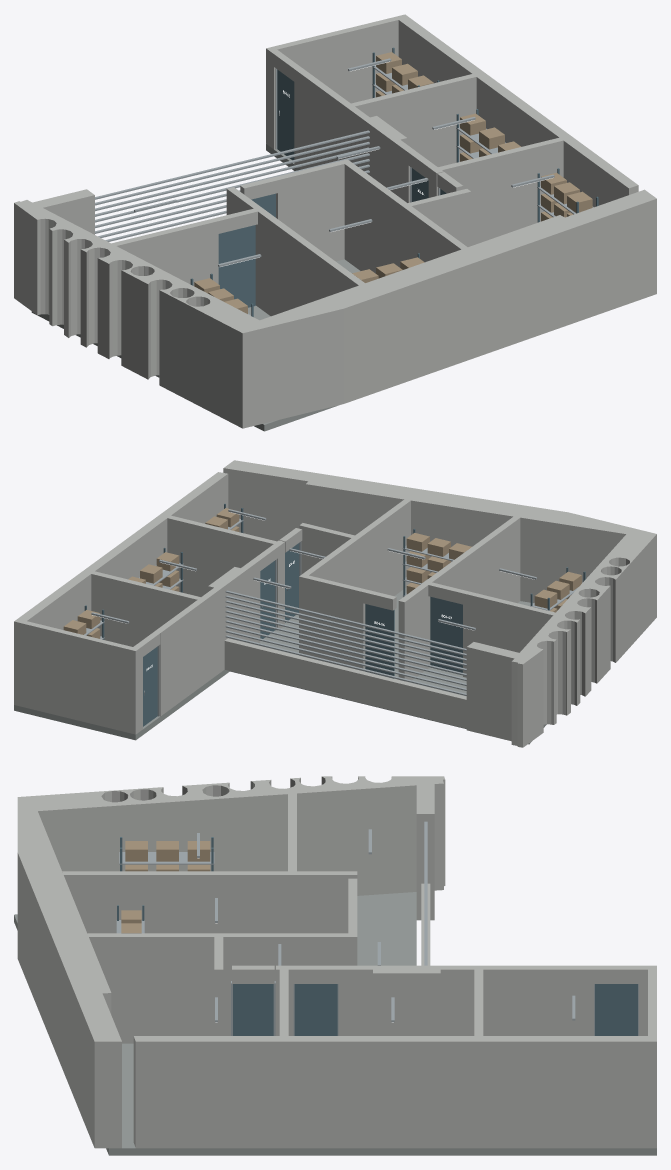
File: B04-storage.glb
3 views of the same model, one above another, from view 1: azimuth 30°, elevation 25°; view 2: azimuth 150°, elevation 25°; view 3: azimuth 270°, elevation 25° (orthographic). The views are drawn at different scales.
Visible parts, largest first — view 1: SOURCE WALL 54, SOURCE WALL 32, SOURCE WALL 31, SOURCE WALL 44, SOURCE WALL 49, SOURCE WALL 39, SOURCE WALL 47, SOURCE WALL 37, SOURCE WALL 40, SOURCE WALL 45, SOURCE WALL 35.002, PROPOSED | door leaf B04-07 (+15 smaller); view 2: SOURCE WALL 32, SOURCE WALL 55, SOURCE WALL 37, SOURCE WALL 54, SOURCE GRILLE LINE | assumed sill, SOURCE WALL 31, SOURCE WALL 39, SOURCE WALL 44, SOURCE WALL 47, SOURCE WALL 49, SOURCE WALL 35.002, SOURCE WALL 40 (+28 smaller); view 3: SOURCE WALL 31, SOURCE WALL 53, SOURCE WALL 54, SOURCE WALL 39, SOURCE WALL 44, SOURCE REGISTERED | stores floor, SOURCE WALL 35.002, SOURCE WALL 4, SOURCE WALL 32, SOURCE WALL 35.001, PROPOSED | door leaf B04-04, PROPOSED | door leaf B04-03 (+16 smaller).
Part boxes in pixels (left/top/right/bottom): SOURCE WALL 54: left=259, top=189, right=656, bottom=423; SOURCE WALL 32: left=14, top=201, right=264, bottom=428; SOURCE WALL 31: left=395, top=14, right=638, bottom=207; SOURCE WALL 44: left=344, top=162, right=467, bottom=273; SOURCE WALL 49: left=438, top=137, right=563, bottom=245; SOURCE WALL 39: left=226, top=187, right=364, bottom=316; SOURCE WALL 47: left=347, top=74, right=476, bottom=166; SOURCE WALL 37: left=287, top=17, right=398, bottom=103; SOURCE WALL 40: left=274, top=159, right=350, bottom=261; SOURCE WALL 45: left=111, top=218, right=218, bottom=285; SOURCE WALL 35.002: left=305, top=75, right=369, bottom=170; PROPOSED | door leaf B04-07: left=218, top=225, right=255, bottom=307; SOURCE WALL 32: left=517, top=529, right=656, bottom=747; SOURCE WALL 55: left=305, top=481, right=628, bottom=602; SOURCE WALL 37: left=23, top=621, right=120, bottom=729; SOURCE WALL 54: left=223, top=460, right=637, bottom=541; SOURCE GRILLE LINE | assumed sill: left=224, top=638, right=466, bottom=728; SOURCE WALL 31: left=14, top=472, right=228, bottom=706; SOURCE WALL 39: left=398, top=516, right=520, bottom=682; SOURCE WALL 44: left=303, top=499, right=410, bottom=595; SOURCE WALL 47: left=91, top=571, right=203, bottom=646; SOURCE WALL 49: left=167, top=515, right=276, bottom=596; SOURCE WALL 35.002: left=164, top=587, right=220, bottom=709; SOURCE WALL 40: left=299, top=574, right=366, bottom=671; SOURCE WALL 31: left=133, top=1036, right=656, bottom=1148; SOURCE WALL 53: left=27, top=779, right=443, bottom=895; SOURCE WALL 54: left=17, top=808, right=121, bottom=1148; SOURCE WALL 39: left=62, top=871, right=357, bottom=933; SOURCE WALL 44: left=87, top=933, right=348, bottom=1043; SOURCE REGISTERED | stores floor: left=14, top=892, right=656, bottom=1155; SOURCE WALL 35.002: left=440, top=965, right=570, bottom=1035; SOURCE WALL 4: left=373, top=965, right=440, bottom=1035; SOURCE WALL 32: left=17, top=776, right=445, bottom=885; SOURCE WALL 35.001: left=338, top=965, right=372, bottom=1035; PROPOSED | door leaf B04-04: left=294, top=984, right=337, bottom=1035; PROPOSED | door leaf B04-03: left=595, top=984, right=637, bottom=1035.
Size of the model in its own units: 13.88 by 2.78 by 14.22.
